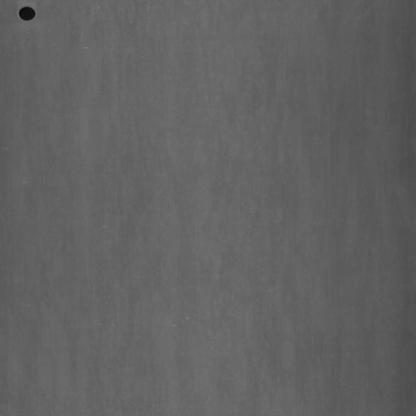punching_hole: (15, 0, 40, 28)
